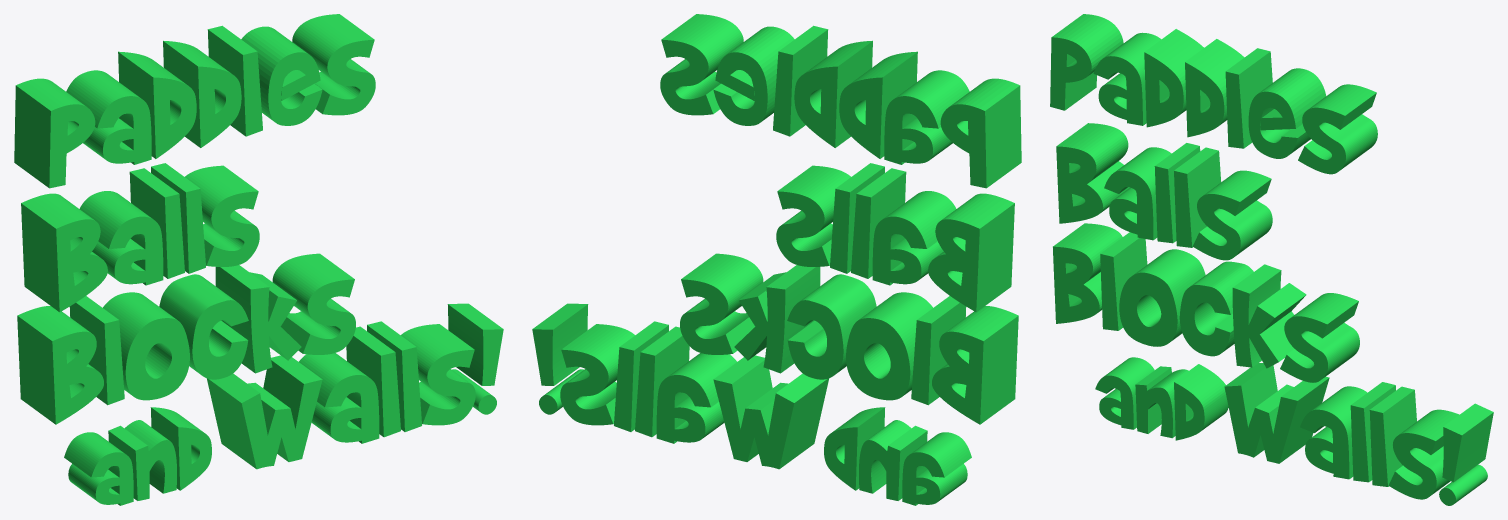
File: title_3d.glb
3 views of the same model, side by side, from view 1: azimuth 30°, elevation 25°; view 2: azimuth 150°, elevation 25°; view 3: azimuth 330°, elevation 25° (orthographic). The views are drawn at different scales.
Parts seen in each view (by area): view 1: Text; view 2: Text; view 3: Text.
Boxes of the visible parts, x1=… form: Text: x1=14, y1=14, x2=503, y2=505; Text: x1=532, y1=14, x2=1021, y2=505; Text: x1=1050, y1=14, x2=1493, y2=505.
Size of the model in its own units: 16.75 by 14.97 by 2.24.
